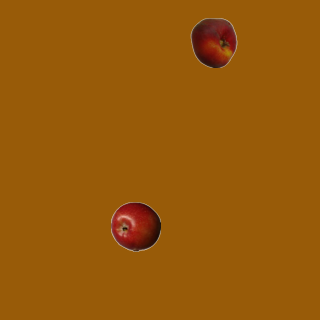Apple Braeburn: (110, 201, 160, 251)
Nectarine Flat: (188, 17, 238, 67)
